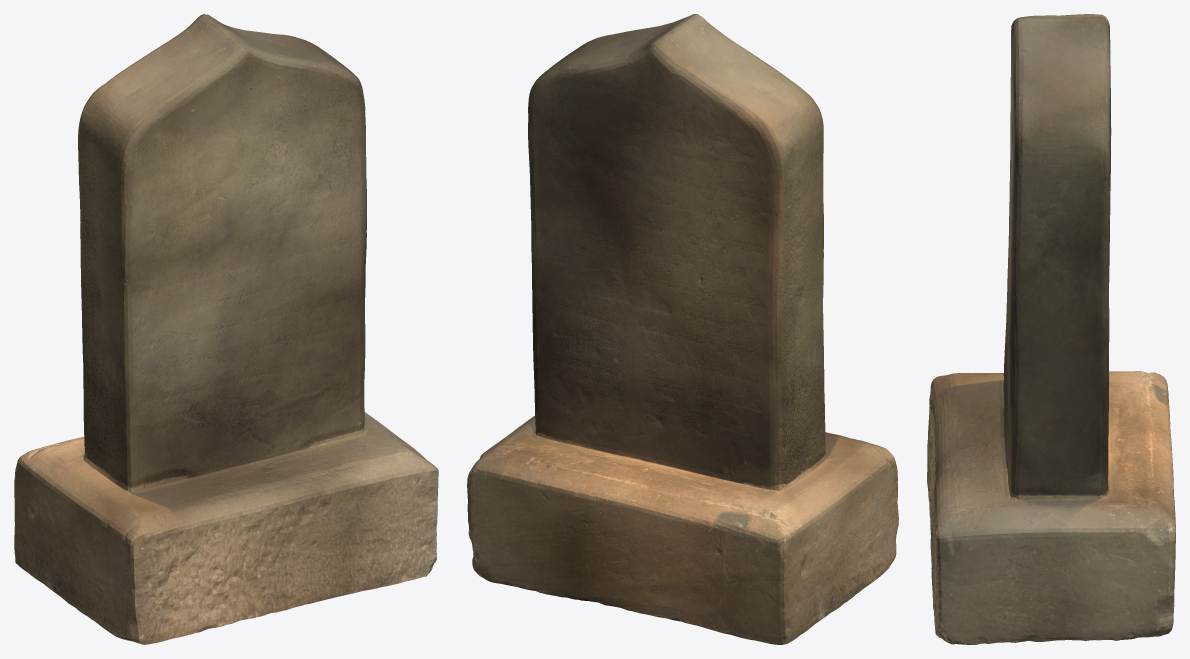
Rendered from 6_biada_final.glb.
3 renders of one model, left to right at view 1: azimuth 30°, elevation 25°; view 2: azimuth 150°, elevation 25°; view 3: azimuth 270°, elevation 25°, orthographic.
Size of the model in its own units: 0.6973 by 1.14 by 0.4679.
1 material, 1 textured.
